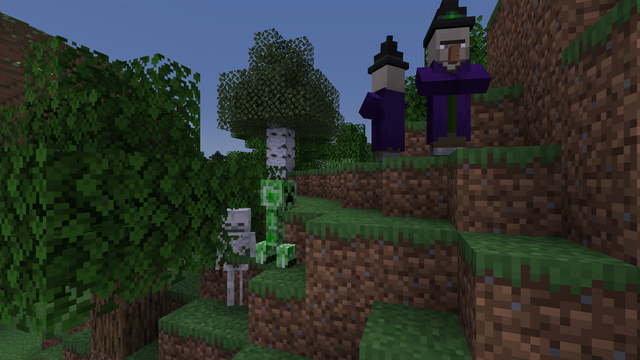creepers: (257, 175, 298, 267)
sorcieres: (425, 16, 472, 157), (371, 59, 403, 162)
squelettes: (215, 207, 252, 312)
